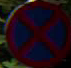No Stopping: (8, 0, 70, 65)
